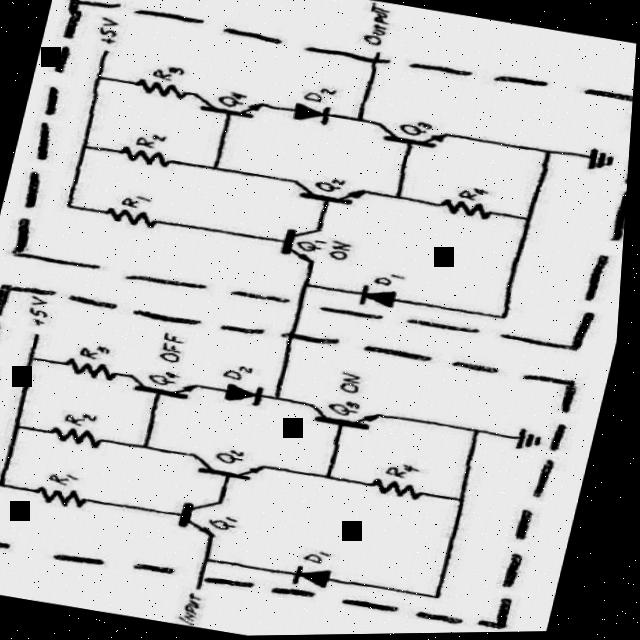diode: (281, 554, 356, 598), (344, 274, 415, 319), (215, 373, 283, 419), (276, 91, 342, 132)
ground: (559, 133, 633, 181), (492, 420, 554, 460)
resistor: (82, 182, 208, 240), (40, 411, 135, 464), (51, 344, 142, 396), (29, 473, 112, 518), (351, 470, 438, 512), (429, 189, 509, 231), (107, 136, 190, 176), (120, 69, 199, 107)
transistor: (287, 379, 421, 454), (265, 159, 405, 224), (353, 107, 481, 173), (171, 432, 289, 501), (253, 208, 354, 279), (172, 77, 283, 139), (159, 479, 248, 553), (118, 356, 227, 415)
